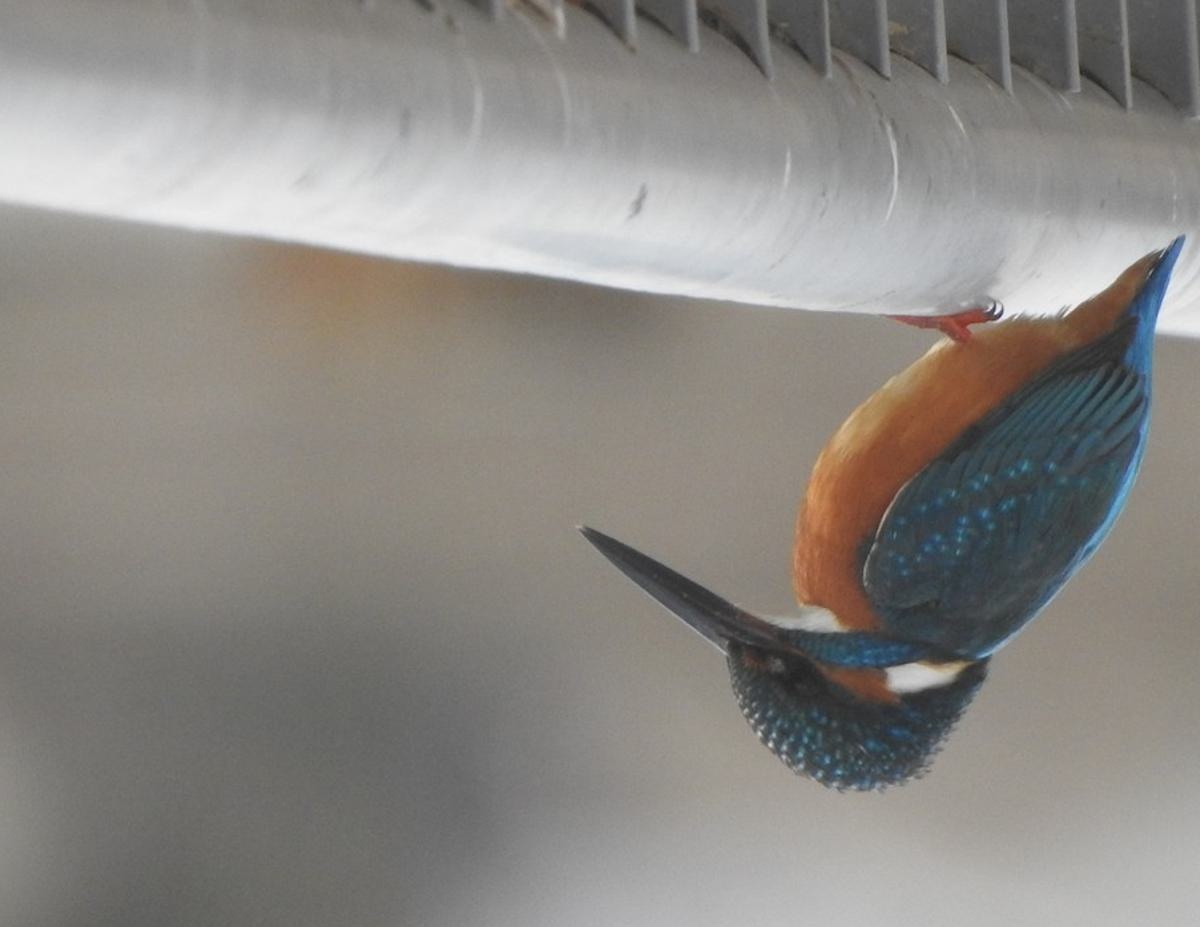kingfisher: (566, 220, 1188, 798)
